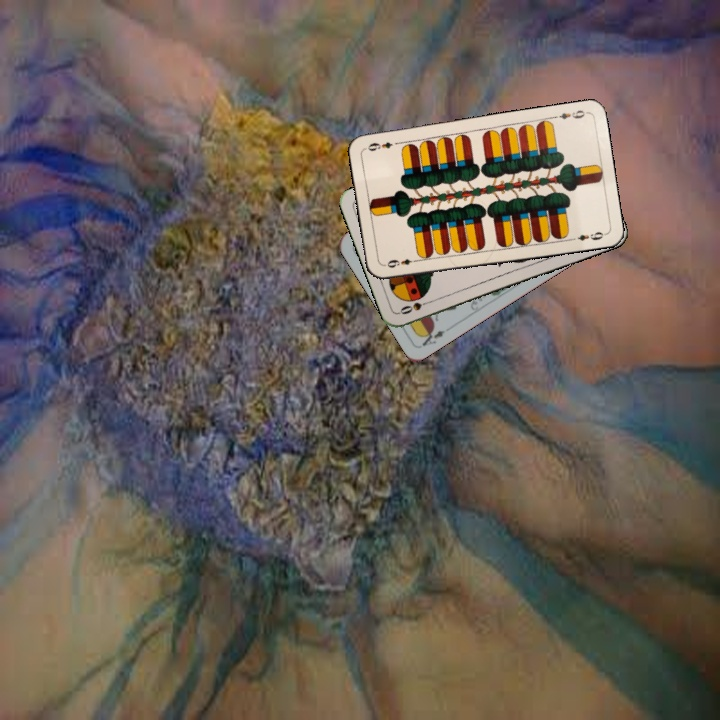E9: (549, 106, 589, 122), (380, 255, 421, 270)
EA: (416, 323, 454, 349)
SO: (396, 296, 435, 317)
